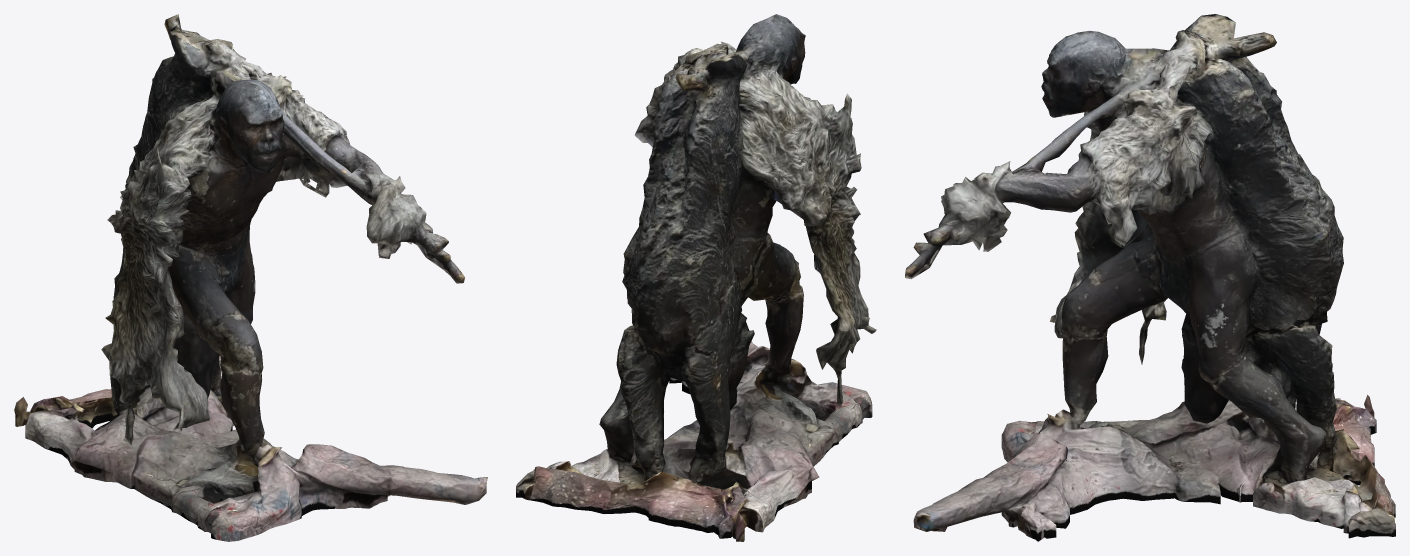
The model's file is pitekanec_low.gltf.
3 views of the same model, side by side, from view 1: azimuth 30°, elevation 25°; view 2: azimuth 150°, elevation 25°; view 3: azimuth 270°, elevation 25° (orthographic). The views are drawn at different scales.
Visible parts, largest first — view 1: pitekanec_ar; view 2: pitekanec_ar; view 3: pitekanec_ar.
Boxes of the visible parts, bbox=[...] form: pitekanec_ar: bbox=[14, 14, 487, 541]; pitekanec_ar: bbox=[516, 14, 876, 541]; pitekanec_ar: bbox=[905, 14, 1395, 541].
Bounding box in the file's own units: 0.6684 × 0.992 × 0.9796.
Materials: 1 (1 with a texture image).
